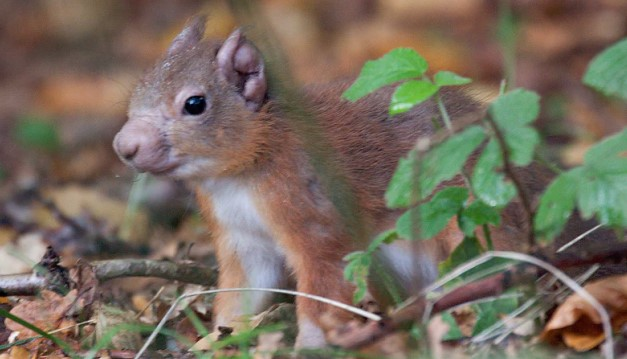Ardilla: (106, 15, 452, 307)
